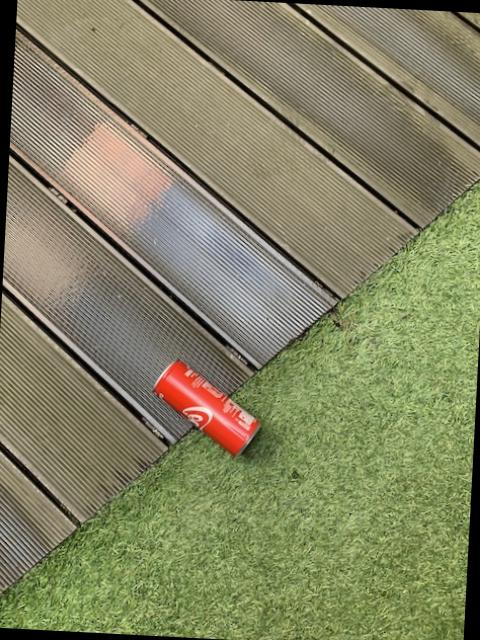metal: (154, 360, 257, 454)
